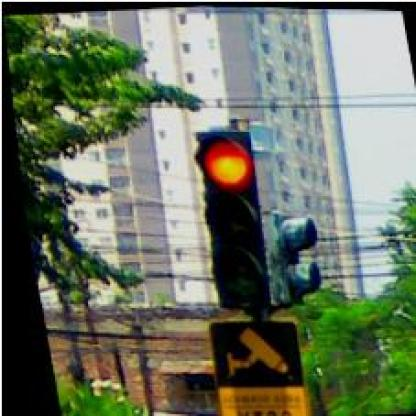red: (182, 128, 276, 308)
